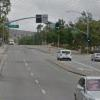Car: (54, 43, 75, 62)
